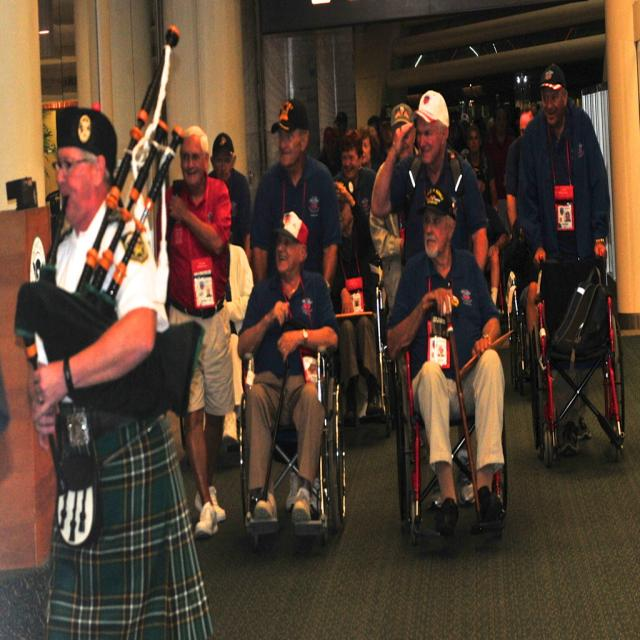wheelchairs: (394, 189, 512, 542), (240, 212, 349, 542), (534, 246, 629, 461)
